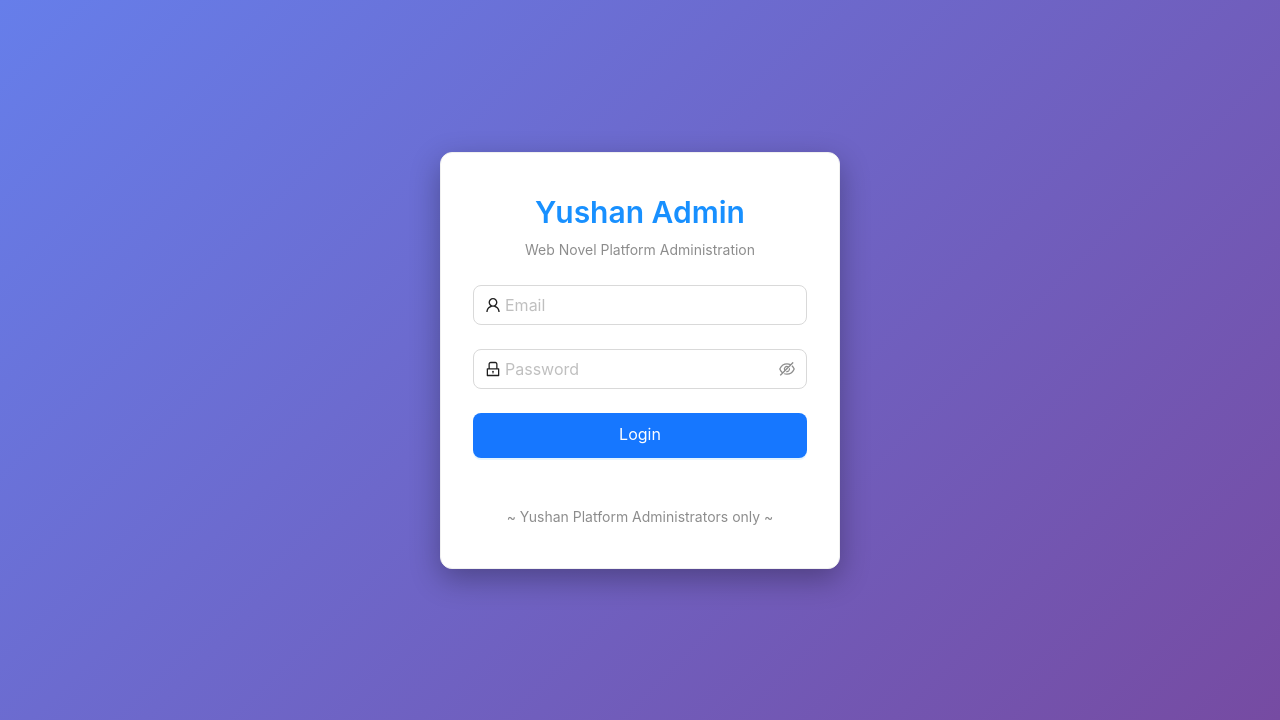
Test: AdminLogin Component › Form Validation › shows validation error for empty password
Type "test@example.com" into the field with placeholder "Email".
click(650, 304); type("test@example.com")  # box [505,292,795,316]
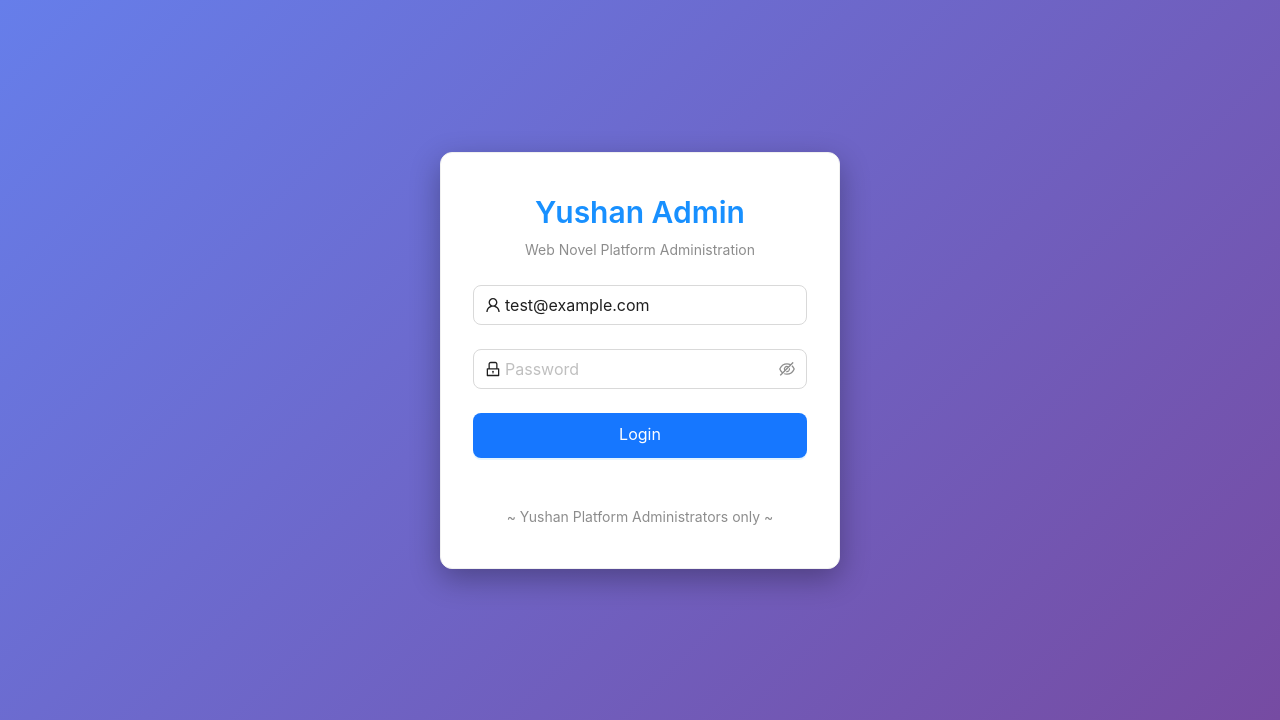
Click the button "Login".
click(640, 435)  # box [473,412,807,458]
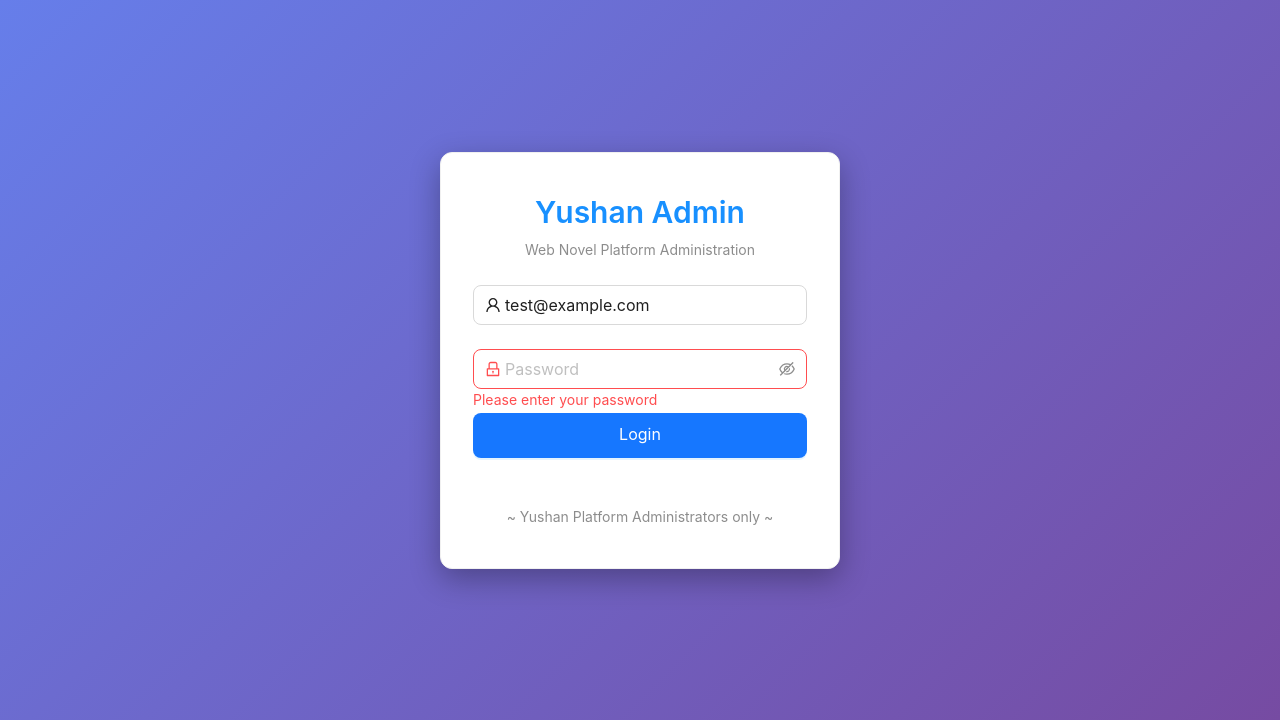
expect the text "Please enter your password" is shown: met, box [473,390,657,408]
